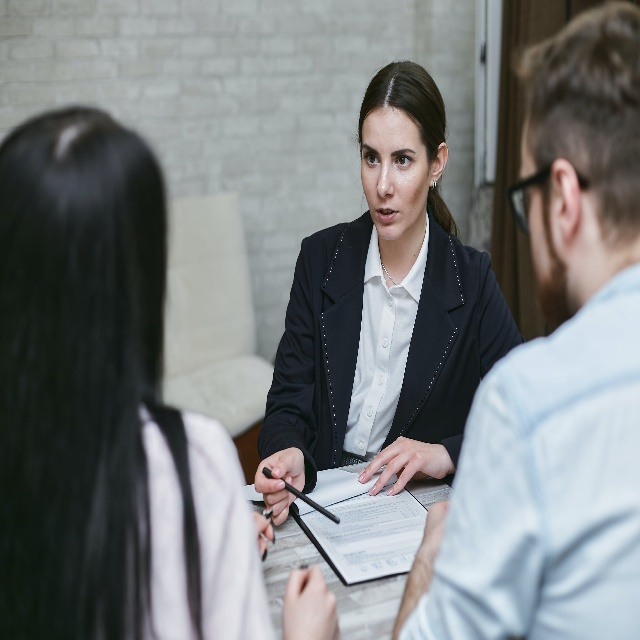Gafas: (507, 168, 546, 231)
Sin_guantes: (358, 429, 449, 500), (280, 564, 340, 640), (252, 445, 306, 525), (253, 508, 276, 565)
